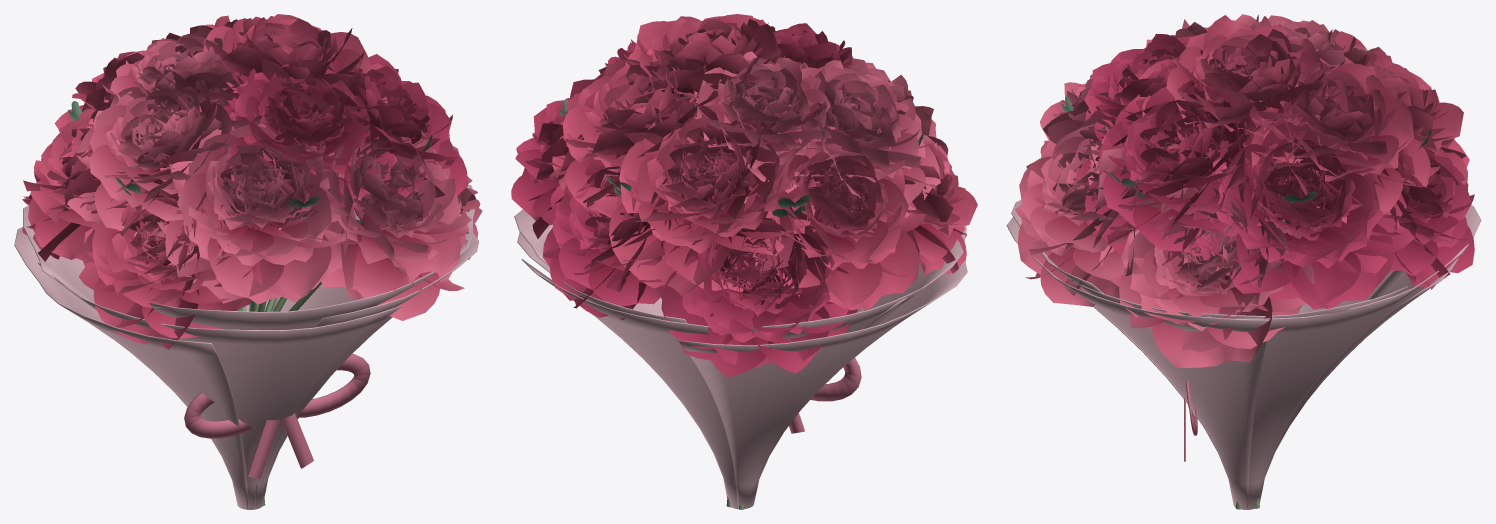
The model's file is bouquet.glb.
3 renders of one model, left to right at view 1: azimuth 30°, elevation 25°; view 2: azimuth 150°, elevation 25°; view 3: azimuth 270°, elevation 25°, orthographic.
Visible parts, largest first — view 1: Wrap, Peony7, Peony10, Peony4, Peony12, Peony2, Peony0, Peony5, Peony9, Peony1, Ribbon, Peony6 (+3 smaller); view 2: Wrap, Peony6, Peony14, Peony9, Peony3, Peony4, Peony11, Peony1, Peony0, Peony8, Peony12, Peony2 (+2 smaller); view 3: Wrap, Peony8, Peony5, Peony13, Peony10, Peony3, Peony0, Peony11, Peony6, Peony2, Peony1, Peony7 (+1 smaller).
Boxes of the visible parts, x1=… form: Wrap: x1=14, y1=184, x2=478, y2=509; Peony7: x1=141, y1=120, x2=361, y2=304; Peony10: x1=279, y1=124, x2=471, y2=320; Peony4: x1=67, y1=69, x2=261, y2=237; Peony12: x1=79, y1=168, x2=256, y2=349; Peony2: x1=197, y1=59, x2=397, y2=213; Peony0: x1=199, y1=14, x2=387, y2=126; Peony5: x1=321, y1=50, x2=467, y2=197; Peony9: x1=23, y1=94, x2=160, y2=261; Peony1: x1=87, y1=25, x2=247, y2=128; Ribbon: x1=184, y1=354, x2=370, y2=478; Peony6: x1=54, y1=33, x2=180, y2=133; Wrap: x1=514, y1=209, x2=967, y2=509; Peony6: x1=594, y1=101, x2=816, y2=296; Peony14: x1=660, y1=192, x2=857, y2=377; Peony9: x1=743, y1=128, x2=925, y2=310; Peony3: x1=549, y1=45, x2=741, y2=217; Peony4: x1=777, y1=60, x2=940, y2=222; Peony11: x1=542, y1=151, x2=714, y2=319; Peony1: x1=678, y1=51, x2=854, y2=204; Peony0: x1=618, y1=14, x2=812, y2=116; Peony8: x1=511, y1=60, x2=619, y2=238; Peony12: x1=904, y1=144, x2=977, y2=275; Peony2: x1=739, y1=18, x2=851, y2=68; Wrap: x1=1006, y1=200, x2=1481, y2=509; Peony8: x1=1193, y1=113, x2=1414, y2=309; Peony5: x1=1074, y1=83, x2=1290, y2=266; Peony13: x1=1099, y1=168, x2=1314, y2=367; Peony10: x1=1015, y1=101, x2=1183, y2=306; Peony3: x1=1238, y1=52, x2=1431, y2=223; Peony0: x1=1139, y1=15, x2=1352, y2=172; Peony11: x1=1370, y1=137, x2=1474, y2=289; Peony6: x1=1330, y1=31, x2=1469, y2=184; Peony2: x1=1061, y1=33, x2=1210, y2=169; Peony1: x1=1232, y1=15, x2=1369, y2=69; Peony7: x1=1026, y1=74, x2=1114, y2=168.
Bounding box in the file's own units: 3.67 × 4.04 × 3.63.
